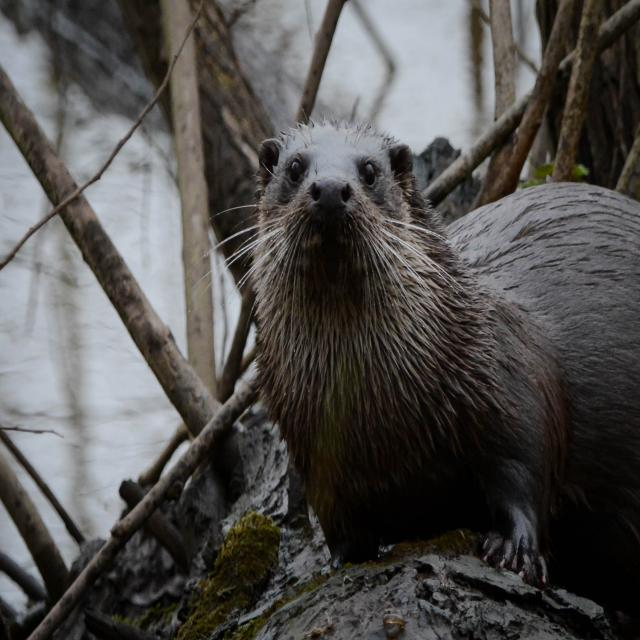otter: (260, 130, 640, 531)
